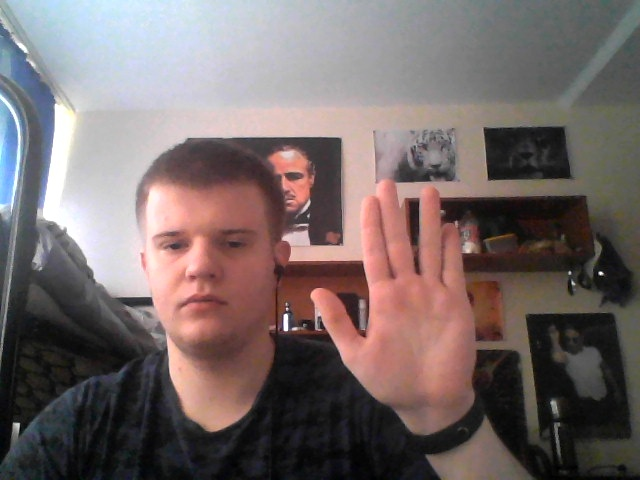peace: (308, 177, 481, 408)
